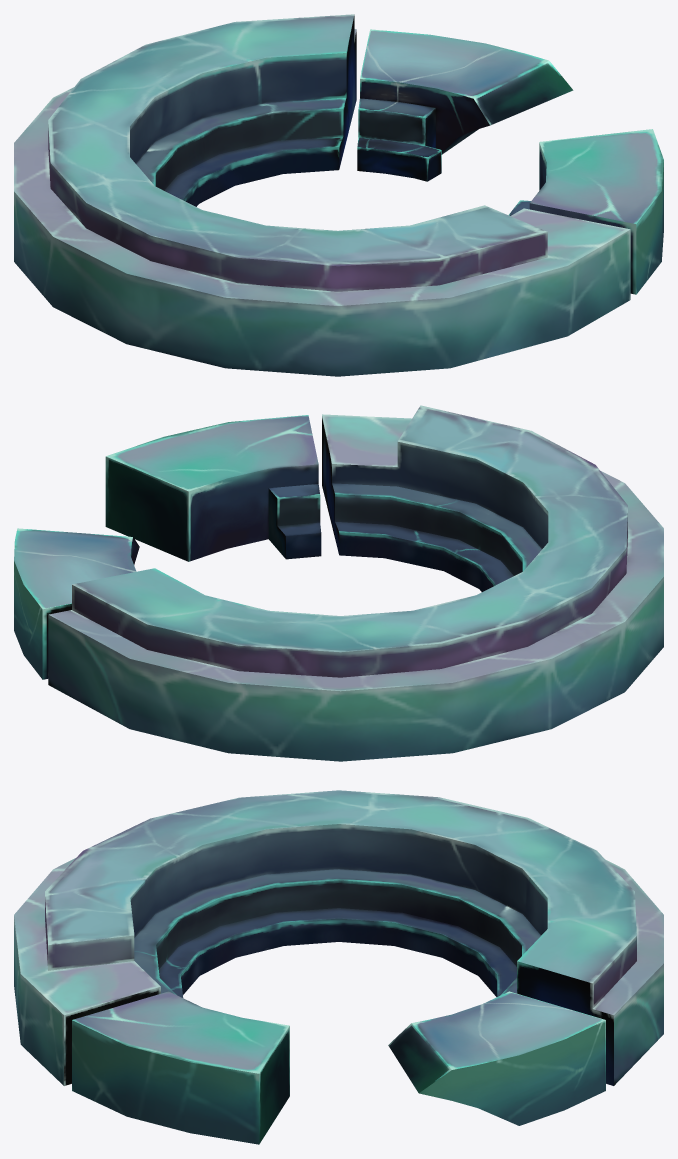
File: zhanxingtai_4.FBX
3 views of the same model, one above another, from view 1: azimuth 30°, elevation 25°; view 2: azimuth 150°, elevation 25°; view 3: azimuth 270°, elevation 25° (orthographic).
Parts seen in each view (by area): view 1: zhanxingtai_4; view 2: zhanxingtai_4; view 3: zhanxingtai_4.
Part boxes in pixels (bbox=[...]): zhanxingtai_4: bbox=[14, 14, 663, 376]; zhanxingtai_4: bbox=[14, 405, 663, 761]; zhanxingtai_4: bbox=[14, 790, 663, 1144].
Size of the model in its own units: 74.01 by 12.13 by 74.12.
